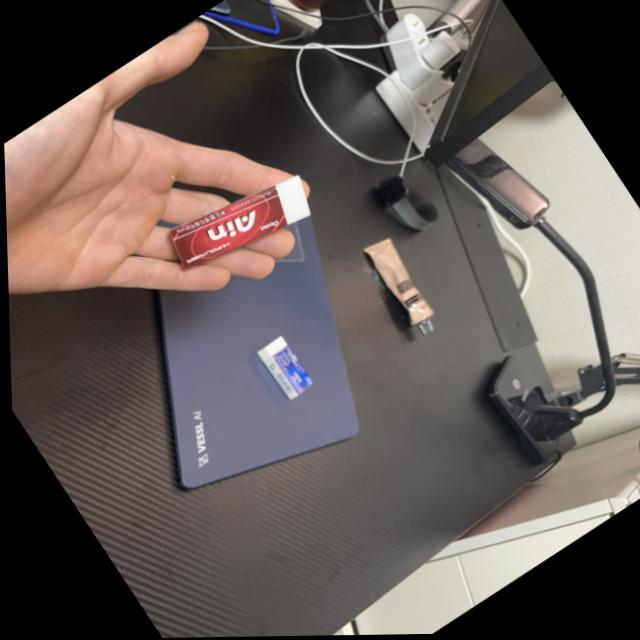blue: (241, 322, 326, 411)
red: (150, 140, 336, 295)
